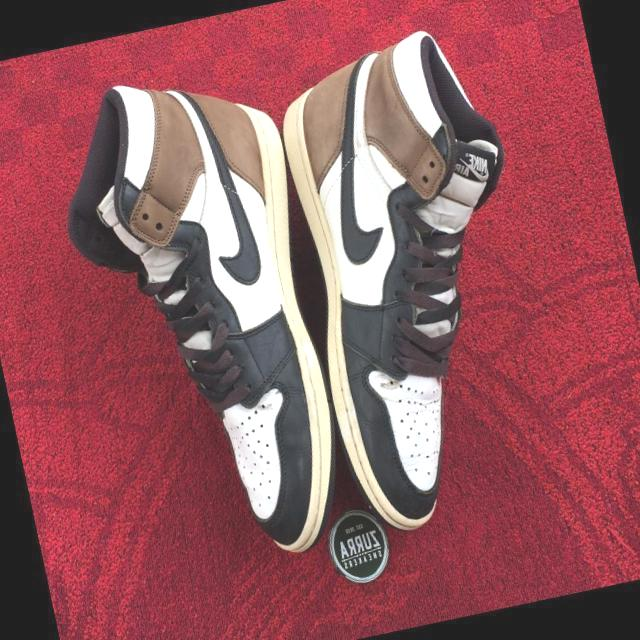nike_original_jordan: (41, 56, 372, 598), (262, 22, 584, 554)
